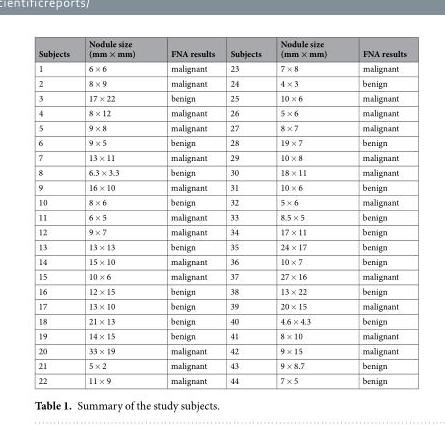table: (37, 37, 405, 386)
table column: (78, 37, 152, 386), (270, 37, 344, 386), (152, 37, 221, 386), (344, 37, 405, 386), (221, 37, 270, 386), (37, 37, 78, 386)
table column header: (37, 37, 405, 60)
table row: (37, 37, 405, 60), (37, 60, 405, 75), (37, 75, 405, 90), (37, 90, 405, 105), (37, 119, 405, 134), (37, 134, 405, 149), (37, 149, 405, 164), (37, 164, 405, 179), (37, 179, 405, 194), (37, 194, 405, 209), (37, 209, 405, 224), (37, 238, 405, 253), (37, 253, 405, 268), (37, 268, 405, 283), (37, 283, 405, 298), (37, 298, 405, 313), (37, 313, 405, 328), (37, 342, 405, 357), (37, 357, 405, 372), (37, 105, 405, 119), (37, 224, 405, 238), (37, 328, 405, 342), (37, 372, 405, 386)
